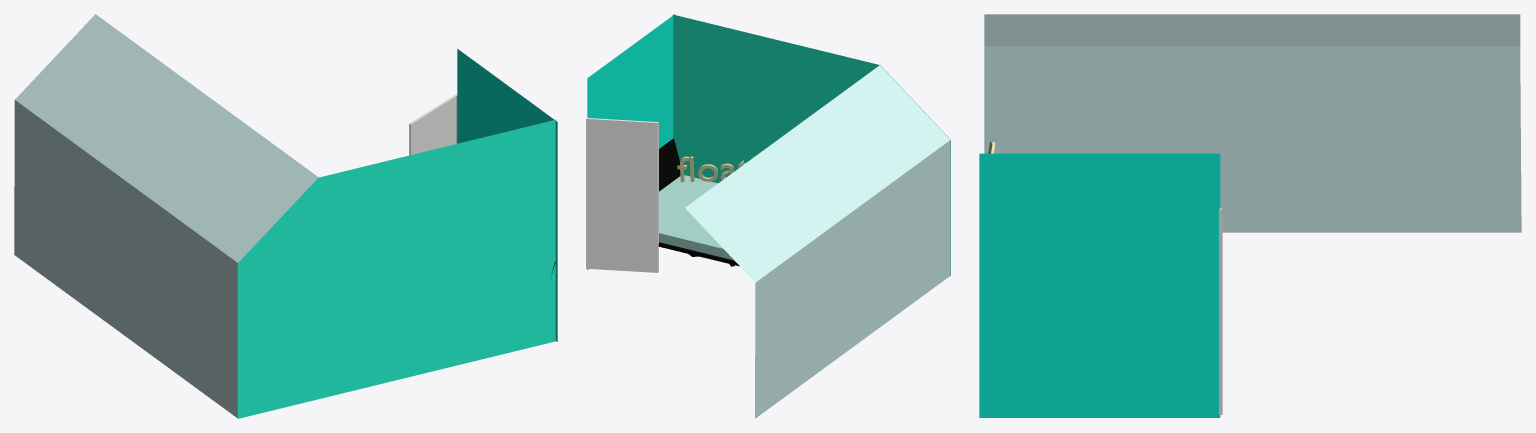
Rendered from chair.glb.
3 renders of one model, left to right at view 1: azimuth 30°, elevation 25°; view 2: azimuth 150°, elevation 25°; view 3: azimuth 270°, elevation 25°, orthographic. The views are drawn at different scales.
Parts seen in each view (by area): view 1: Plane.003, Plane.011, Plane.004, Plane.010; view 2: Plane.011, Plane.003, Plane.010, Plane.004, Plane, Plane.008, Text; view 3: Plane.011, Plane.004, Plane.010.
Part boxes in pixels (<box>): Plane.003: <box>237,119,556,418</box>; Plane.011: <box>14,14,318,417</box>; Plane.004: <box>457,49,557,341</box>; Plane.010: <box>409,94,457,155</box>; Plane.011: <box>685,65,950,418</box>; Plane.003: <box>672,14,950,275</box>; Plane.010: <box>586,118,658,272</box>; Plane.004: <box>587,14,674,270</box>; Plane: <box>659,175,733,260</box>; Plane.008: <box>658,138,739,266</box>; Text: <box>677,156,754,182</box>; Plane.011: <box>984,14,1521,232</box>; Plane.004: <box>979,153,1220,417</box>; Plane.010: <box>1219,207,1222,414</box>.
Bounding box in the file's own units: 3.88 × 2.58 × 4.77.
